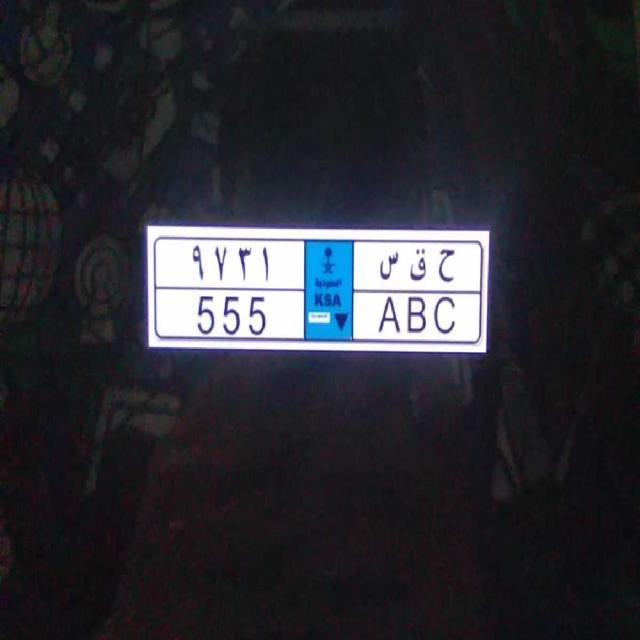license_plate: (163, 292, 466, 351)
